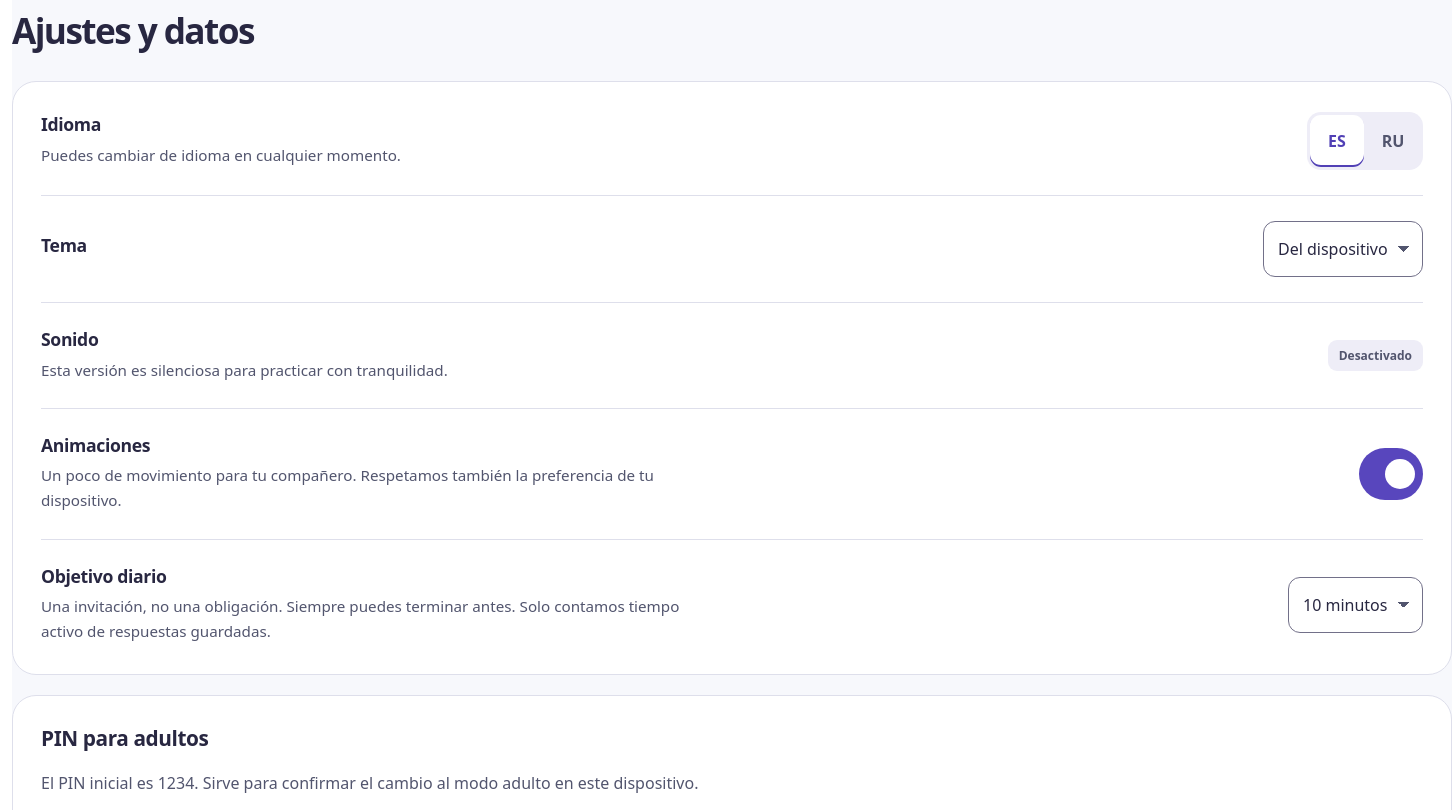
Test: foundation › defaults animations on and allows disabling them
This screenshot has width=1452, height=810.
What coordinates should you click on to do the following:
click the switch named "Animaciones"
I would click on:
 (1391, 474)
Its box is [1359, 448, 1423, 500].
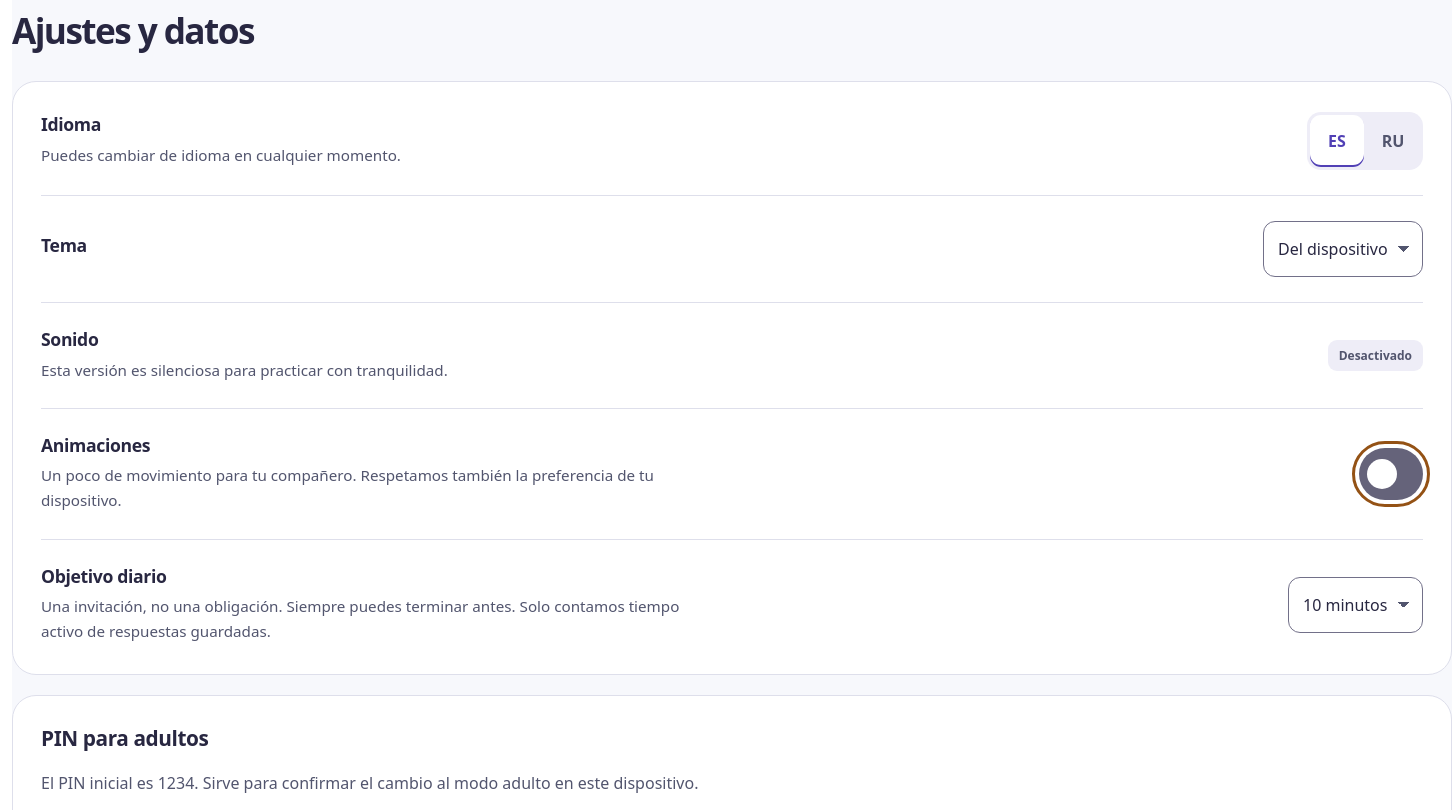
Expected: the text "Esta versión es silenciosa para practicar con tranquilidad." is shown, [41, 358, 448, 383]
Expected: the switch named "Animaciones" is not checked, [1359, 448, 1423, 500]
